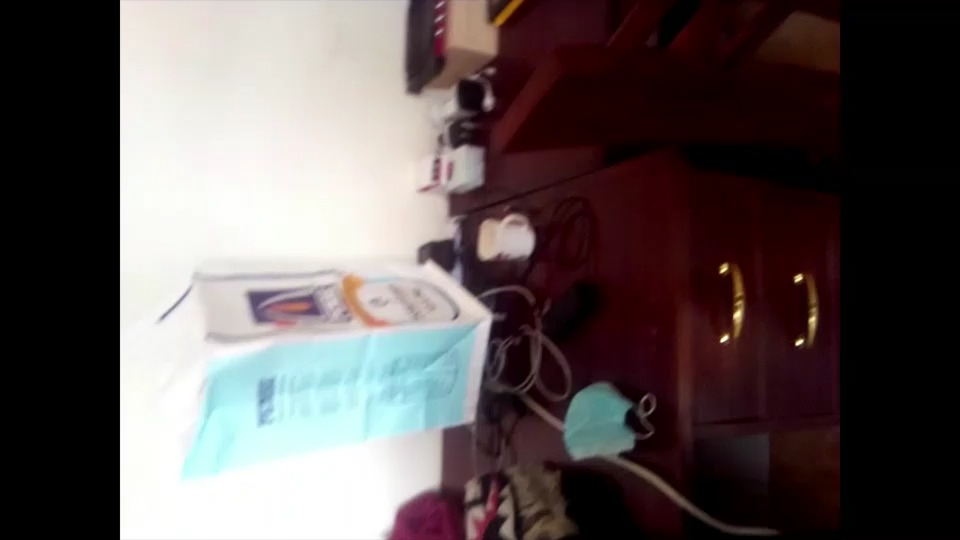wheat_flour_blue_label: (182, 278, 491, 437)
